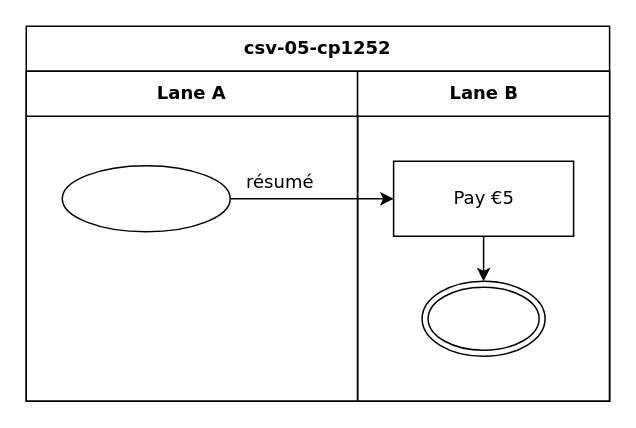
Some shapes in this 636 by 428 pixel diagram are drawn without their labels. Each missing label, with the centre of its shape:
"Café open" goes at [145,198].
"Done" goes at [483,318].
